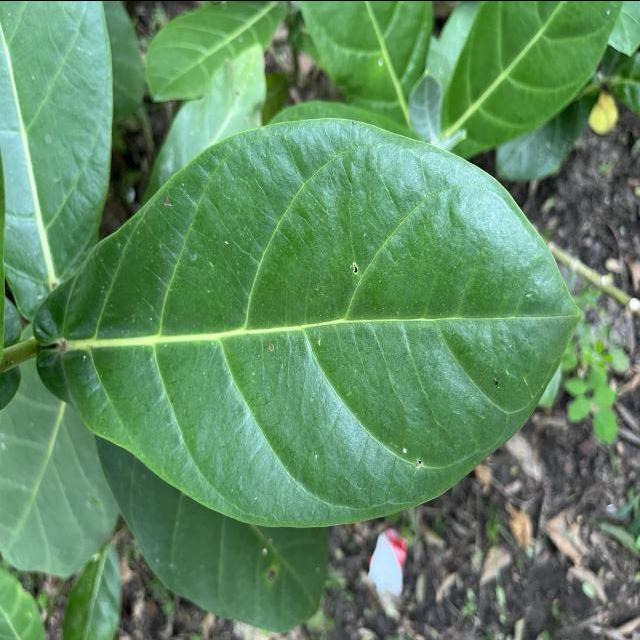Calotropis gigantea: (28, 115, 586, 530), (434, 0, 625, 157)
